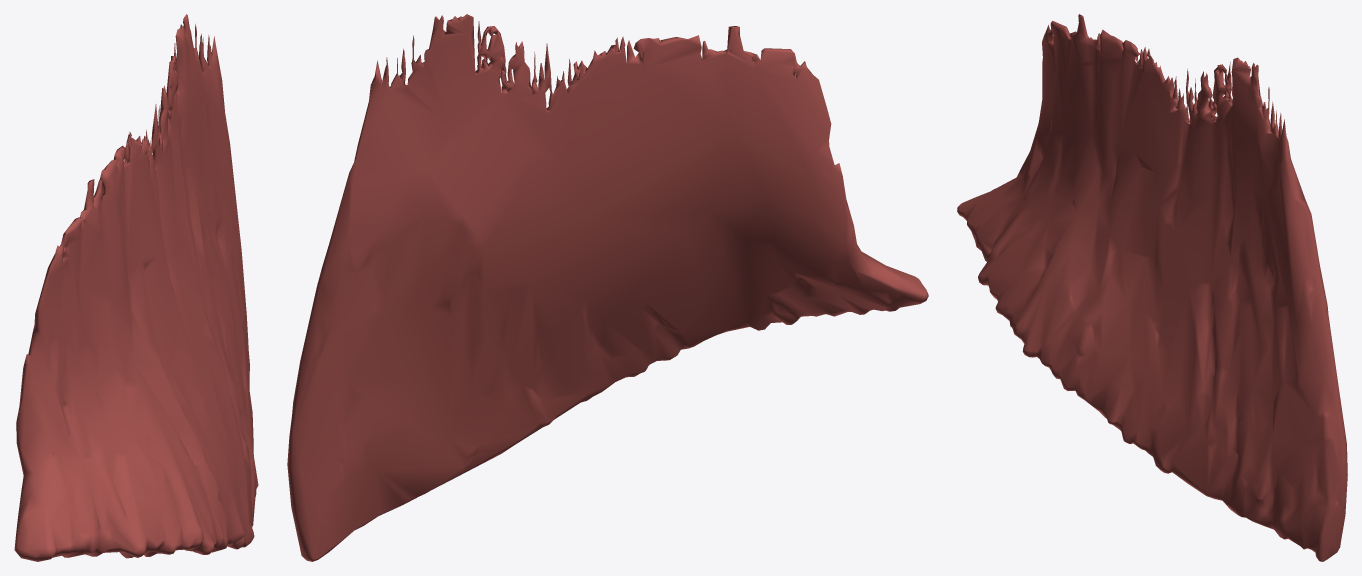
Rendered from FMA46824.glb.
The picture shows the model from 3 angles, left to right: view 1: azimuth 30°, elevation 25°; view 2: azimuth 150°, elevation 25°; view 3: azimuth 270°, elevation 25°; orthographic projection. The views are drawn at different scales.
Parts seen in each view (by area): view 1: FMA46824; view 2: FMA46824; view 3: FMA46824.
Part boxes in pixels (x1,y1,x2,y2): FMA46824: [14, 14, 258, 561]; FMA46824: [287, 14, 928, 561]; FMA46824: [957, 14, 1347, 561].
Size of the model in its own units: 0.0165 by 0.0197 by 0.0152.
